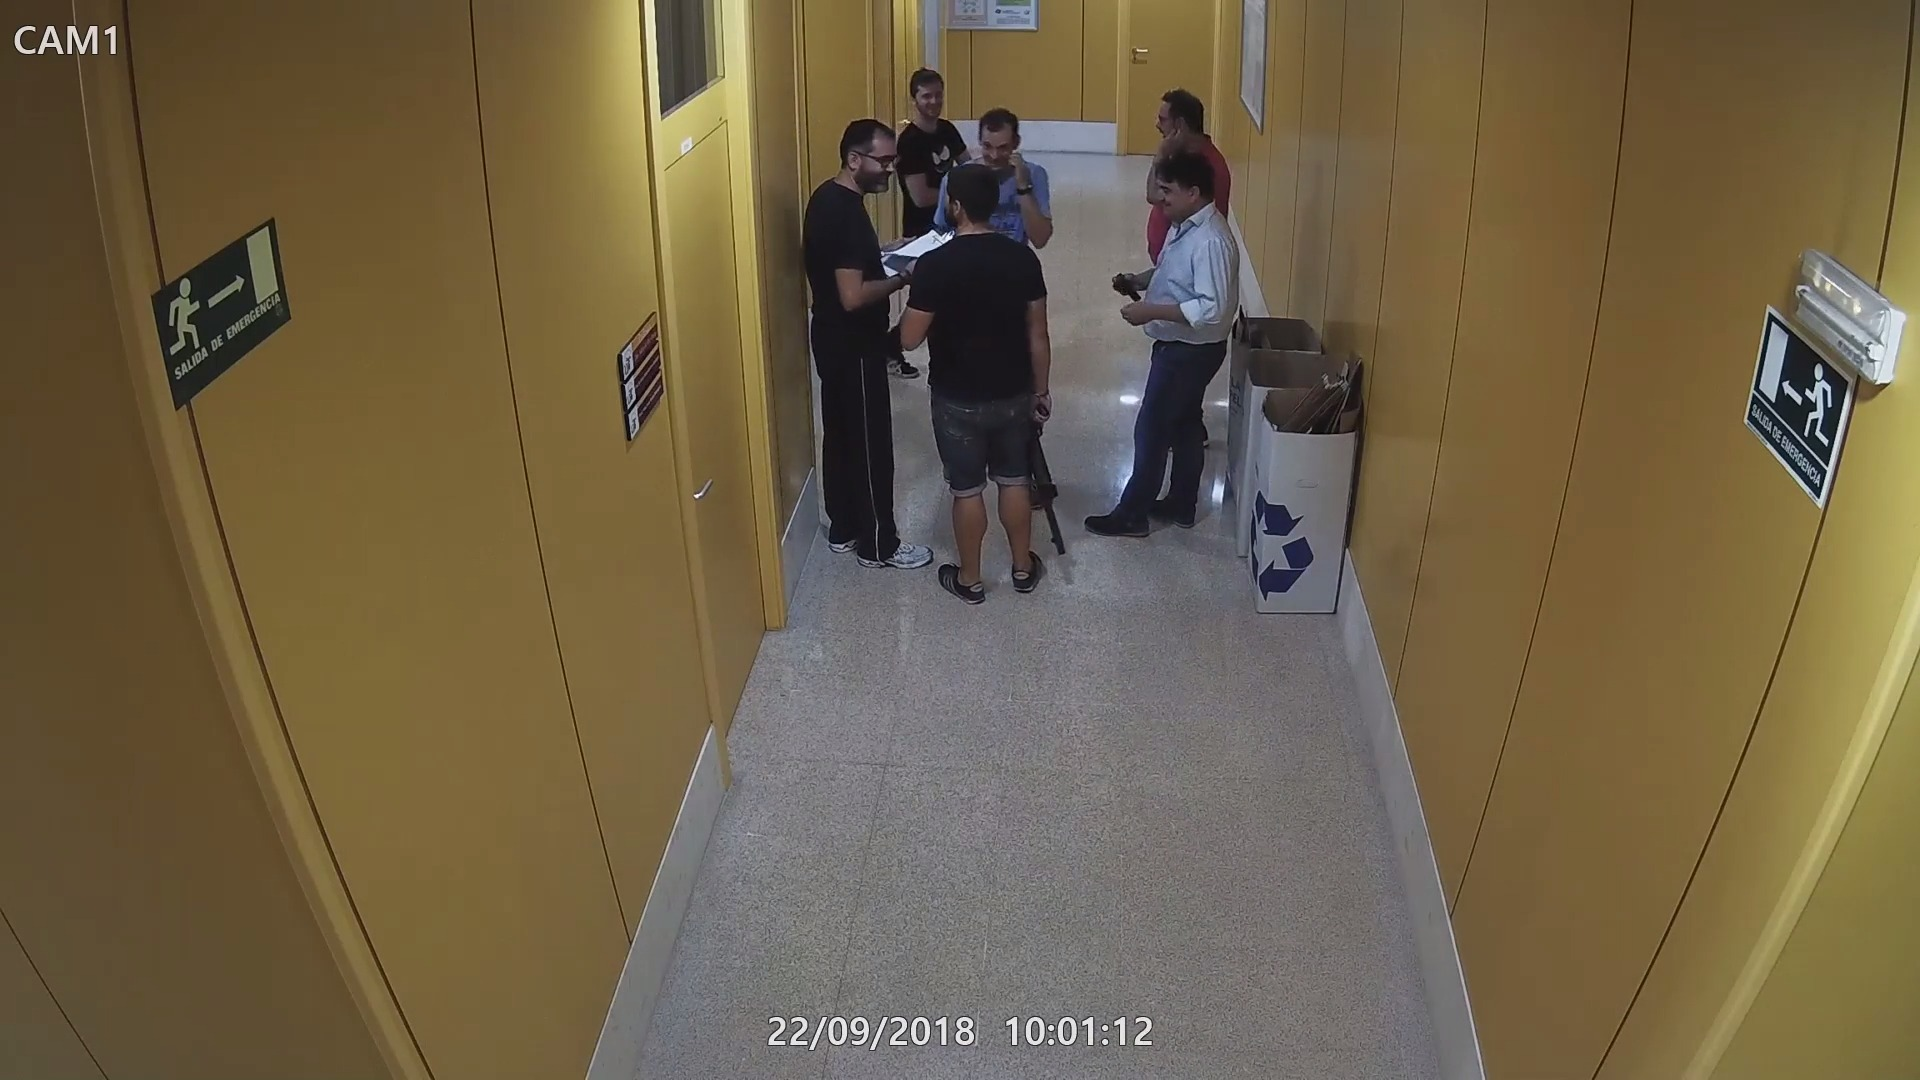Handgun: (1110, 272, 1143, 302)
Short_rifle: (1027, 397, 1071, 556)
